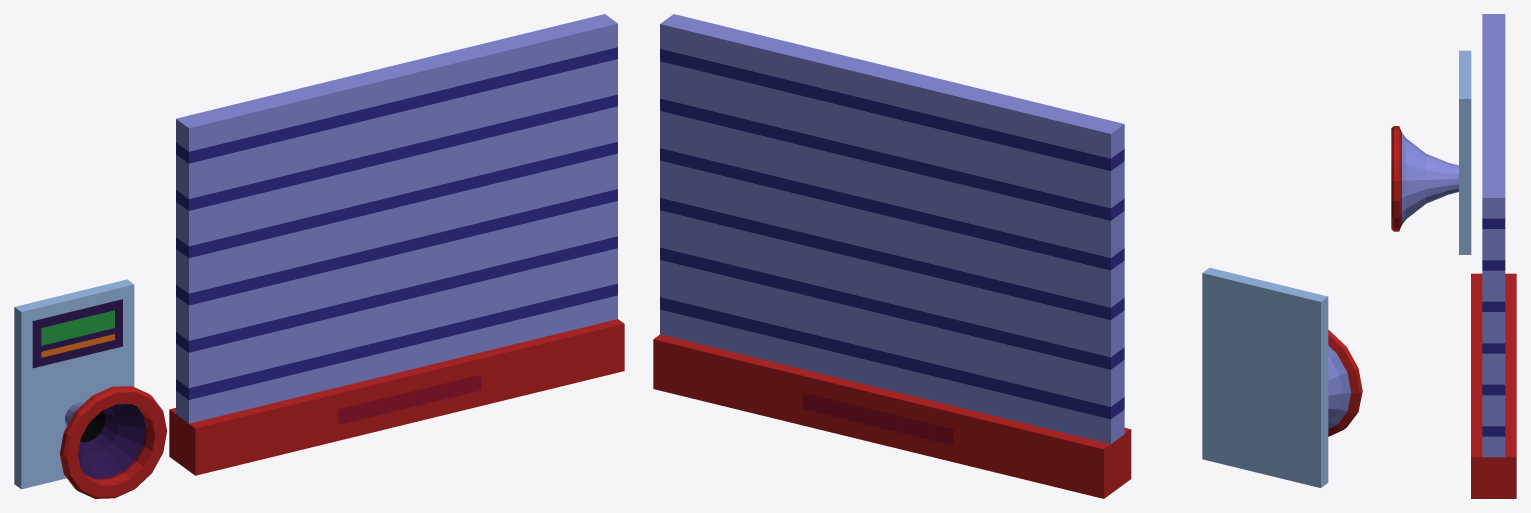
Rendered from LockedDoor.fbx.
3 renders of one model, left to right at view 1: azimuth 30°, elevation 25°; view 2: azimuth 150°, elevation 25°; view 3: azimuth 270°, elevation 25°, orthographic. The views are drawn at different scales.
Visible parts, largest first — view 1: LockedDoor, WaterSwitch, GreenBar; view 2: LockedDoor, WaterSwitch; view 3: LockedDoor, WaterSwitch.
Boxes of the visible parts, left/top/right/bottom form: LockedDoor: left=169, top=14, right=624, bottom=475; WaterSwitch: left=14, top=279, right=166, bottom=498; GreenBar: left=41, top=310, right=114, bottom=345; LockedDoor: left=653, top=14, right=1131, bottom=498; WaterSwitch: left=1202, top=267, right=1362, bottom=487; LockedDoor: left=1471, top=14, right=1516, bottom=498; WaterSwitch: left=1391, top=50, right=1471, bottom=254.
Bounding box in the file's own units: 5400 × 2900 × 1096.
